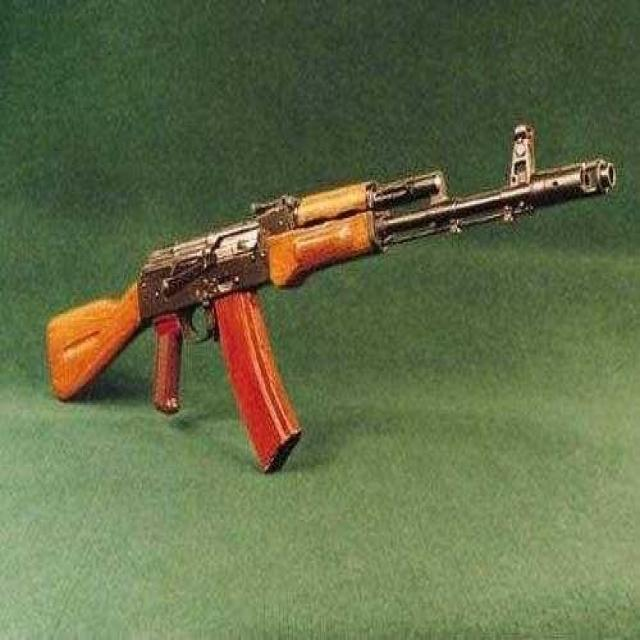heavyweapon: (36, 118, 618, 533)
